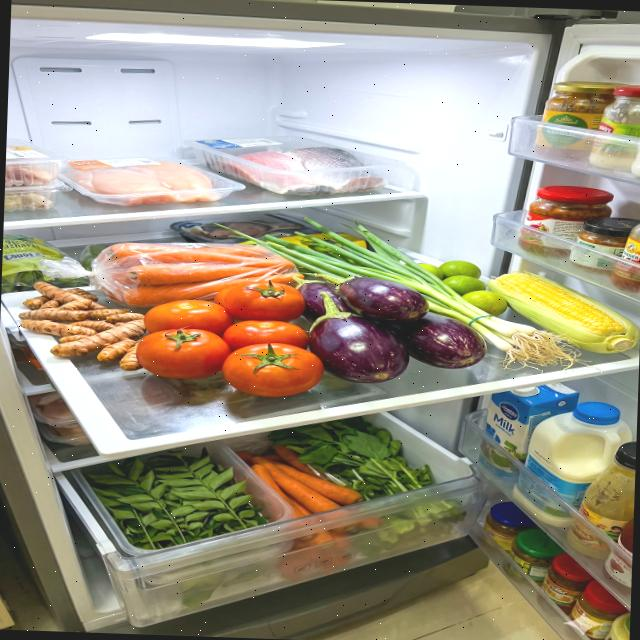carrot: (233, 443, 366, 522)
chicken: (70, 156, 214, 209)
corn: (483, 268, 640, 354)
curry_leaves: (83, 442, 274, 552)
eggplant: (286, 272, 490, 387)
fish: (222, 143, 384, 199)
lime: (415, 258, 509, 317)
spring_onion: (208, 212, 606, 376)
tomato: (133, 274, 328, 399)
turmeric: (16, 280, 148, 371)
